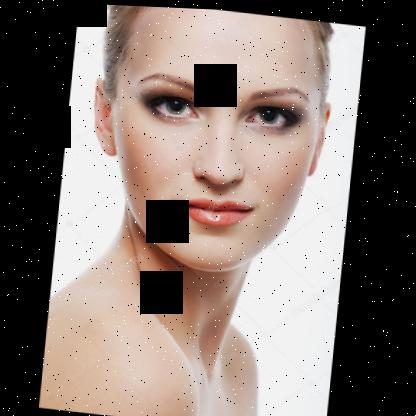Female: (77, 3, 339, 281)
